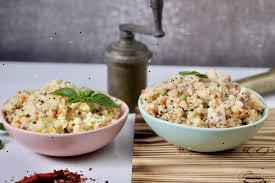upma: (145, 68, 261, 130), (5, 85, 120, 137)
